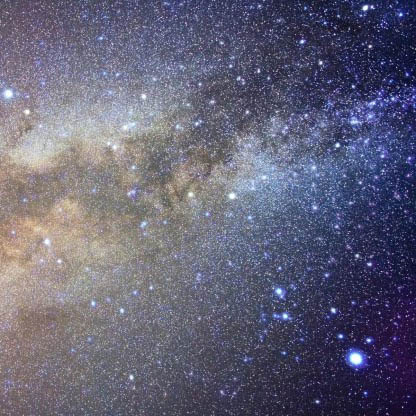Lyra: (343, 346, 365, 374), (267, 283, 284, 298), (276, 308, 290, 326), (325, 301, 339, 318), (361, 331, 375, 347), (333, 330, 347, 345)
